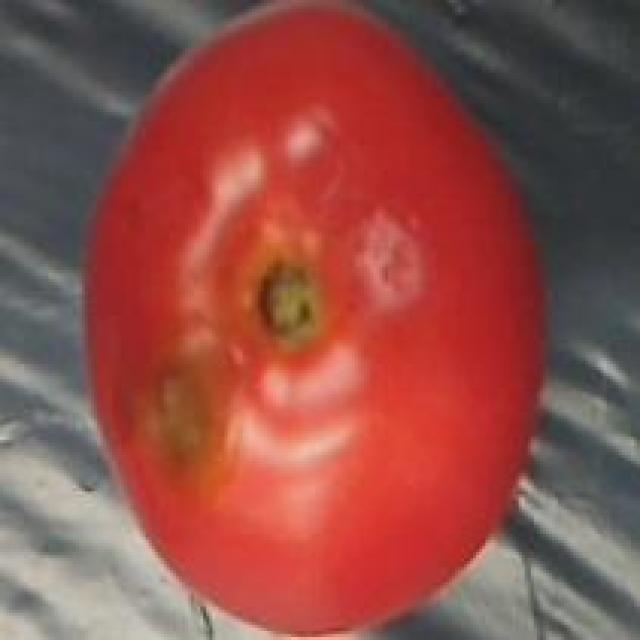overripe tomato: (76, 0, 564, 640)
